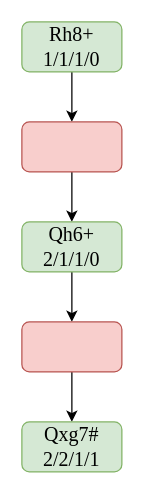
The diagram is 144 pixels wide and 494 high, and some of its shapes have lost their labels. The shapes that lost their labels are listed below. From the top down, each one's centre as x and y in pixels, then its label:
pixel 71 146: Kxh8 0/1/0/1
pixel 71 346: Kg8 0/2/0/1
